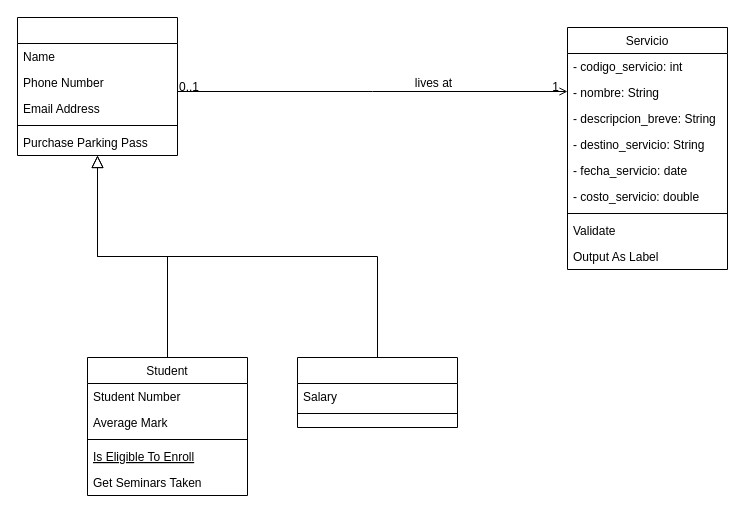
This 745x516 diagram has some shape labels left out. Here are the shapes that lost their labels. From the top down, the box of each, then its label:
(16, 16, 178, 156): Person
(296, 356, 458, 428): Professor
